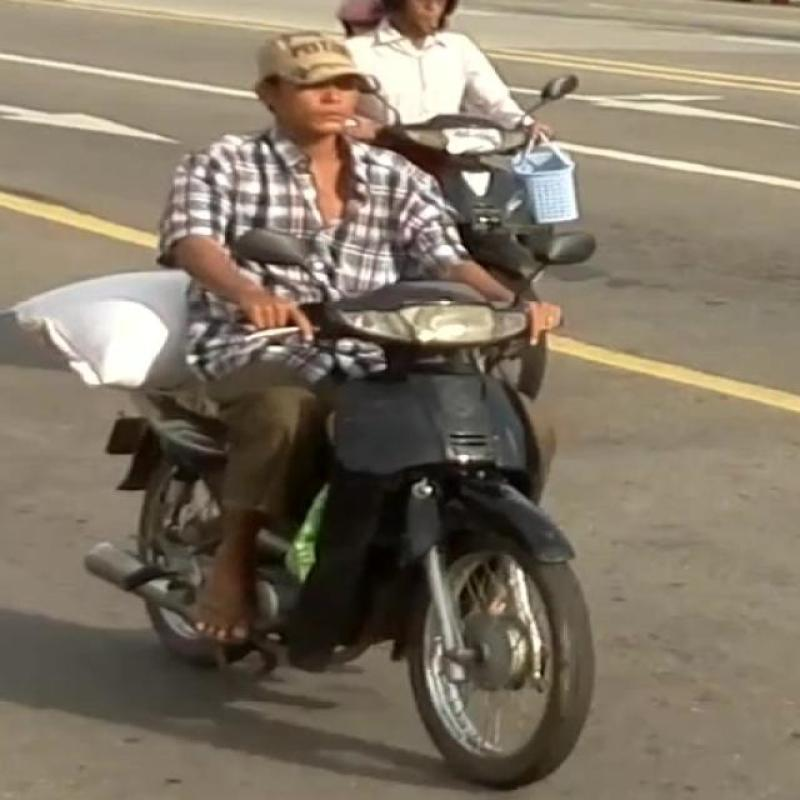nohelmet: (239, 0, 389, 156)
